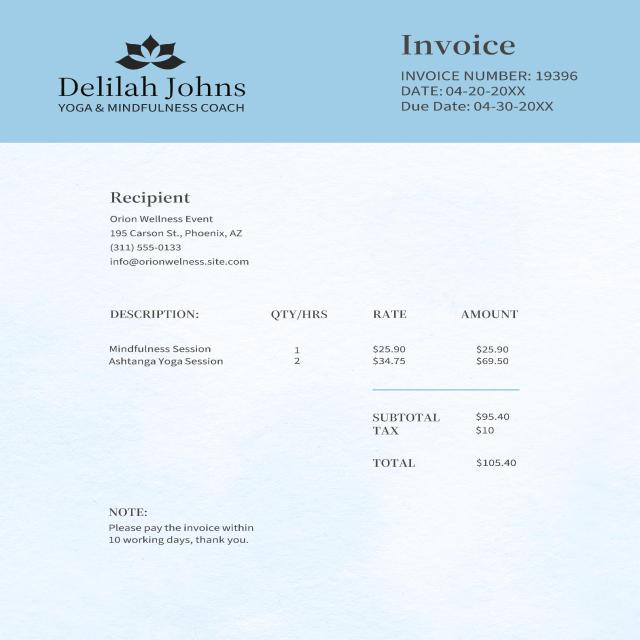paragraph: (32, 7, 283, 131), (348, 6, 597, 126), (62, 163, 300, 276), (77, 492, 299, 572), (358, 402, 543, 483)
table: (62, 292, 545, 392)
